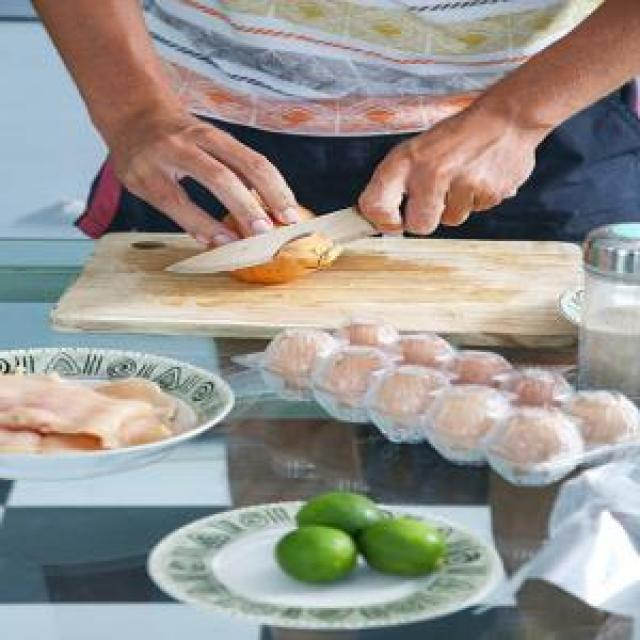knife: (157, 169, 448, 273)
